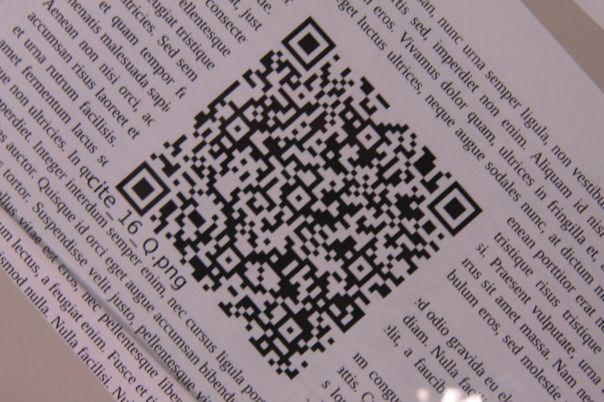Finder pattern: (277, 14, 340, 77), (115, 160, 172, 219), (427, 180, 484, 238)
